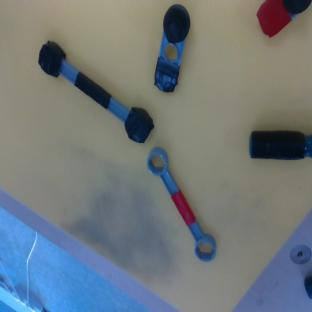part_1_bad: (149, 2, 194, 94)
part_2_bad: (249, 131, 312, 159)
part_3_bad: (29, 38, 160, 147)
part_3_good: (141, 144, 222, 265)
